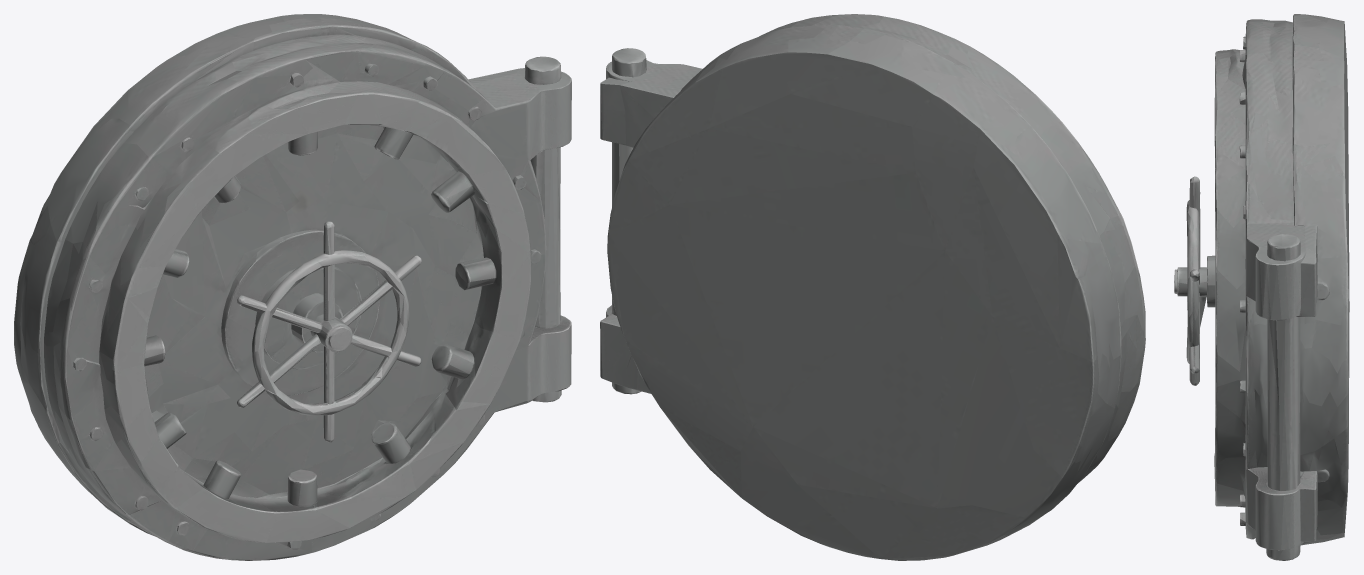
File: vault_door.glb
The picture shows the model from 3 angles, left to right: view 1: azimuth 30°, elevation 25°; view 2: azimuth 150°, elevation 25°; view 3: azimuth 270°, elevation 25°; orthographic projection. The views are drawn at different scales.
Visible parts, largest first — view 1: Mesh_0; view 2: Mesh_0; view 3: Mesh_0.
Boxes of the visible parts, x1,y1,x2,y2 form: Mesh_0: [14, 14, 571, 560]; Mesh_0: [600, 14, 1145, 560]; Mesh_0: [1174, 14, 1349, 560].
Bounding box in the file's own units: 2.56 × 2.4 × 0.7875.
Materials: 1 (1 with a texture image).
